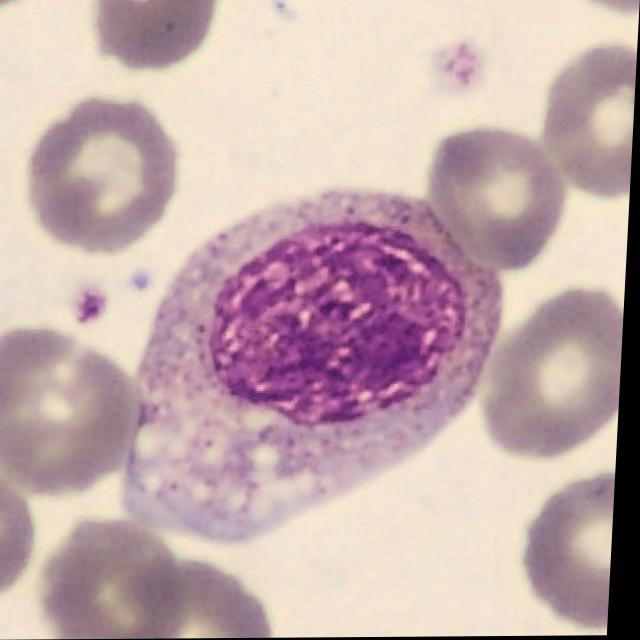Mielocito: (129, 188, 506, 544)
